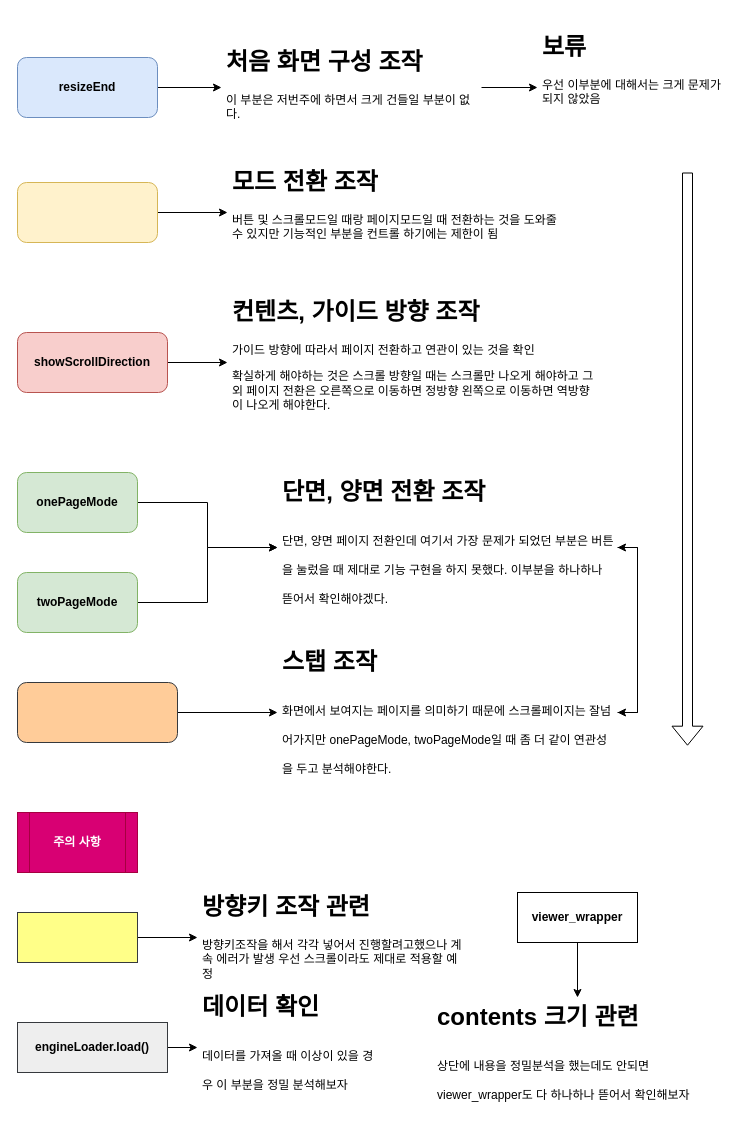
The diagram is 745 pixels wide and 1124 high, and some of its shapes have lost their labels. The shapes that lost their labels are listed below. From the top down, each one's centre as x and y in pixels, then its label:
At (x=87, y=212): "view_mode_change".
At (x=97, y=712): "setScrollModeAction".
At (x=77, y=937): "onkeydown".
